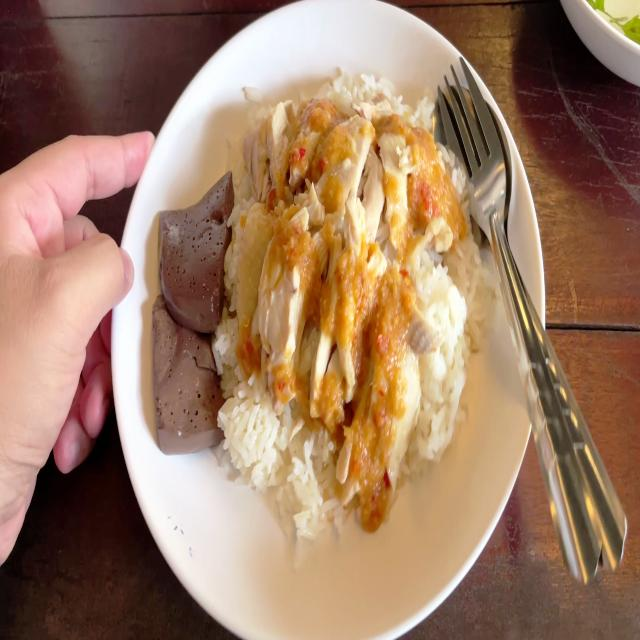boiled_chicken: (250, 113, 433, 413)
boiled_chicken_blood_jelly: (155, 180, 226, 448)
chicken_rice: (147, 78, 490, 544)
